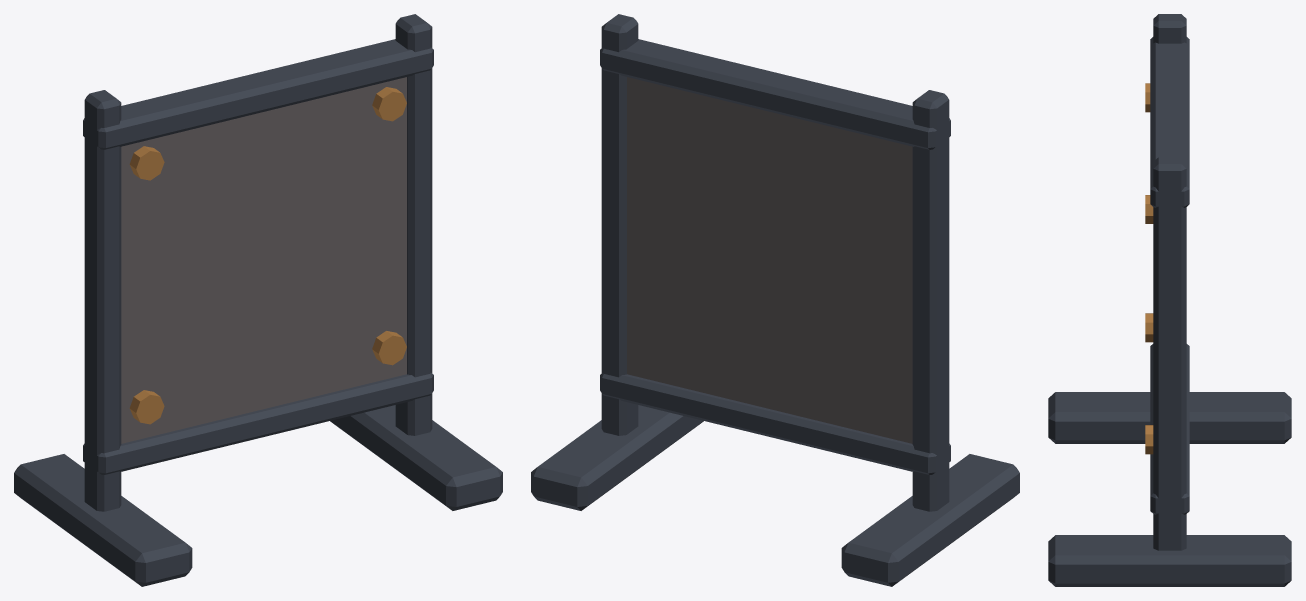
File: 11_Forge_Heat_Shield.glb
The picture shows the model from 3 angles, left to right: view 1: azimuth 30°, elevation 25°; view 2: azimuth 150°, elevation 25°; view 3: azimuth 270°, elevation 25°; orthographic projection. The views are drawn at different scales.
Parts seen in each view (by area): view 1: 11_Forge_Heat_Shield__Body; view 2: 11_Forge_Heat_Shield__Body; view 3: 11_Forge_Heat_Shield__Body.
Part boxes in pixels (x1,y1,x2,y2): 11_Forge_Heat_Shield__Body: [14, 14, 502, 586]; 11_Forge_Heat_Shield__Body: [531, 14, 1019, 586]; 11_Forge_Heat_Shield__Body: [1048, 14, 1291, 586].
Bounding box in the file's own units: 1.94 × 2.22 × 1.18.
Materials: 1 (1 with a texture image).
